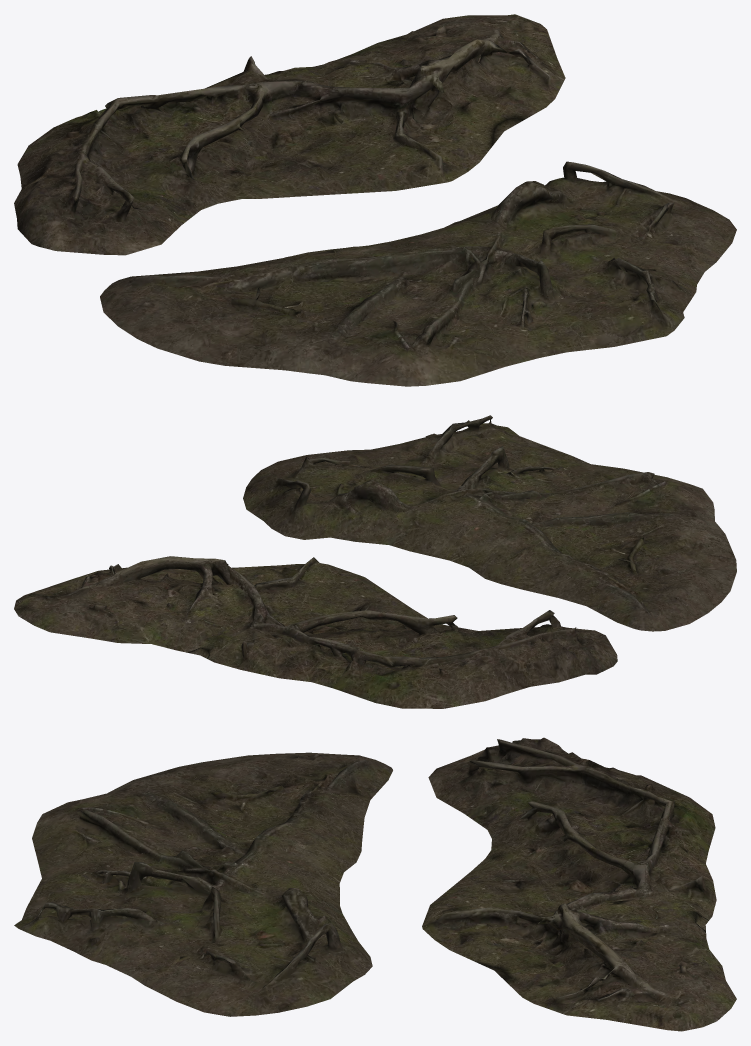
File: pine_roots.glb
3 renders of one model, top to bottom at view 1: azimuth 30°, elevation 25°; view 2: azimuth 150°, elevation 25°; view 3: azimuth 270°, elevation 25°, orthographic. The views are drawn at different scales.
Parts seen in each view (by area): view 1: pine_roots_b, pine_roots_a; view 2: pine_roots_b, pine_roots_a; view 3: pine_roots_b, pine_roots_a.
Boxes of the visible parts, <box> form: pine_roots_b: <box>100,161,736,386</box>; pine_roots_a: <box>14,14,565,255</box>; pine_roots_b: <box>243,415,736,631</box>; pine_roots_a: <box>14,556,617,708</box>; pine_roots_b: <box>14,752,392,1016</box>; pine_roots_a: <box>422,737,736,1031</box>.
Size of the model in its own units: 1.77 by 0.1537 by 1.89.
Materials: 2 (2 with a texture image).
